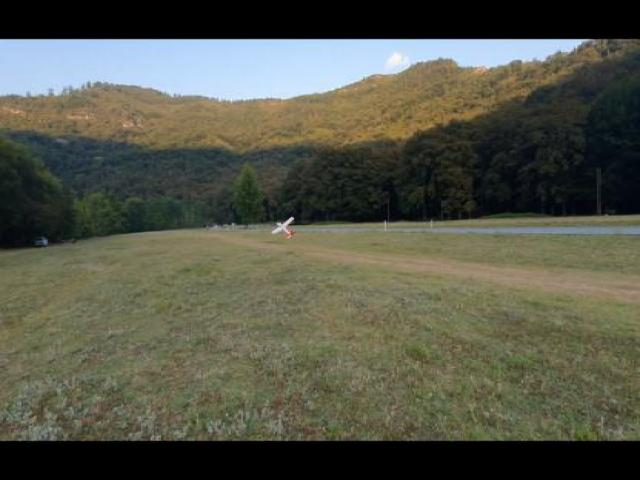uav: (270, 214, 298, 239)
